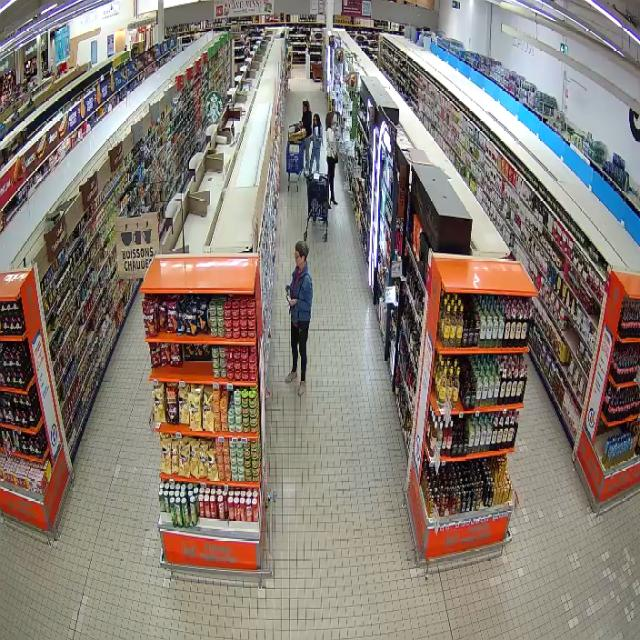article: (286, 290, 291, 305)
hands: (289, 299, 297, 306), (285, 284, 290, 290)
person: (285, 240, 312, 394)
